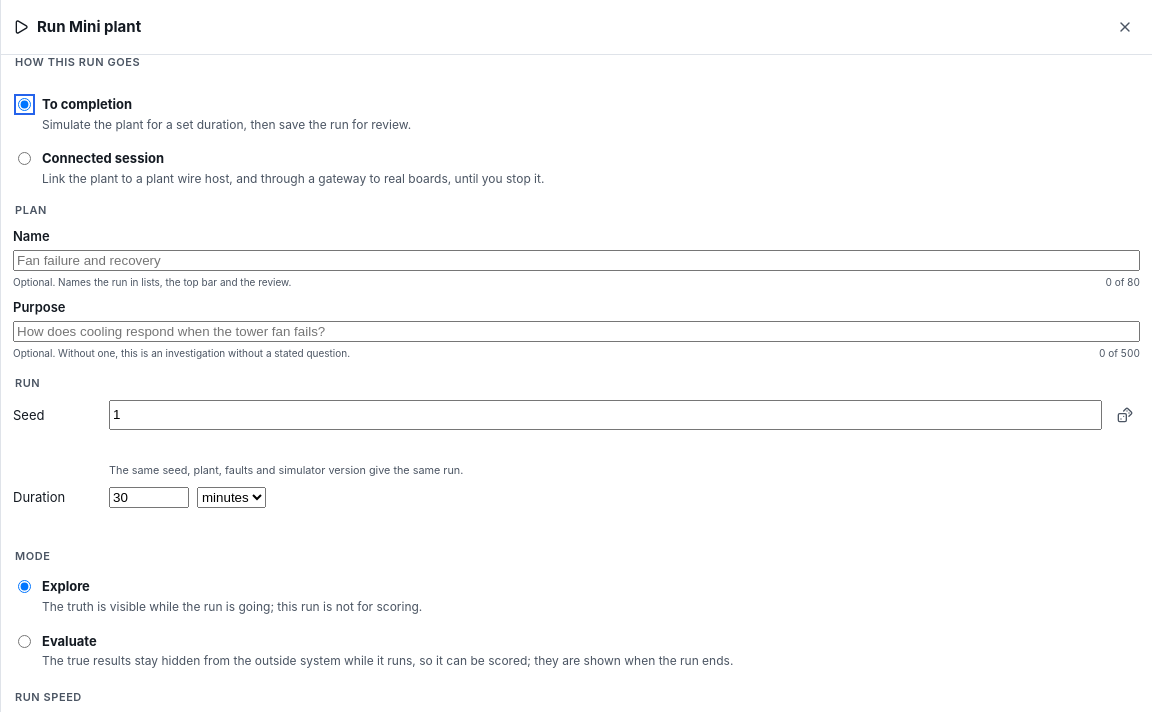
the allowed policy digests of a session plan › pre-fills nothing, and says why, when the default cannot be read
Click the radio button labelled "Connected session": (24, 159) [18, 152, 31, 165]
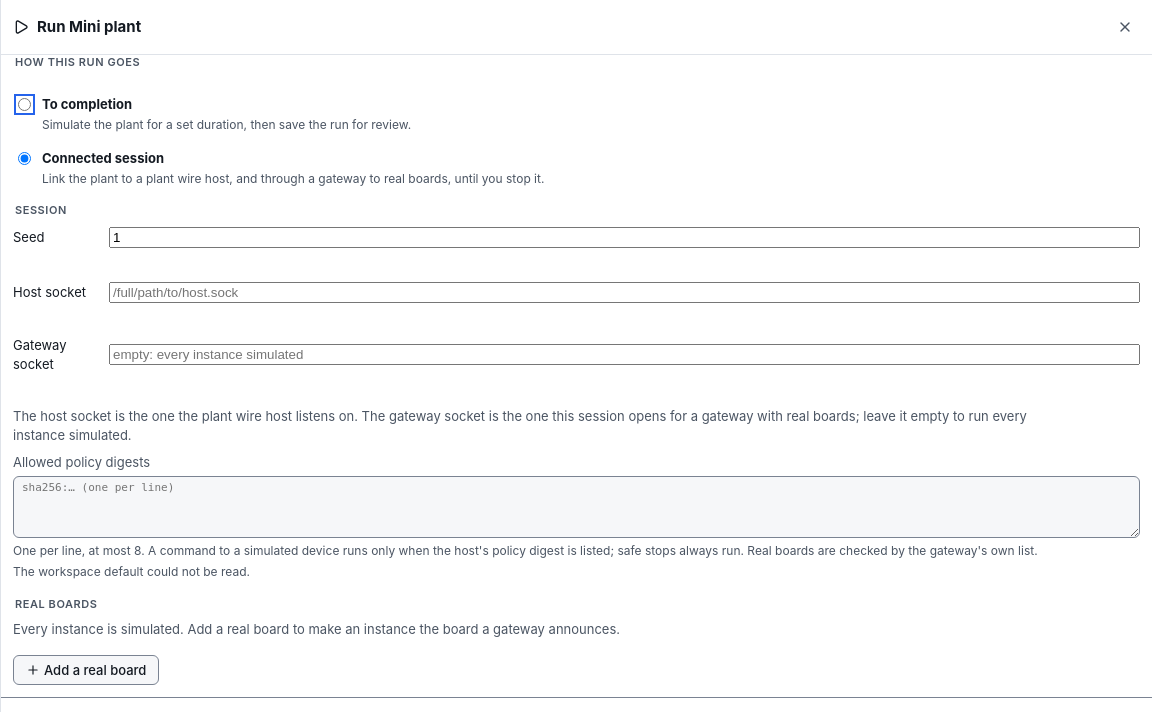
Now the text "The workspace default could not be read." is shown, box [13, 564, 250, 579]
Now the text box labelled "Allowed policy digests" is empty, box [13, 476, 1140, 538]
